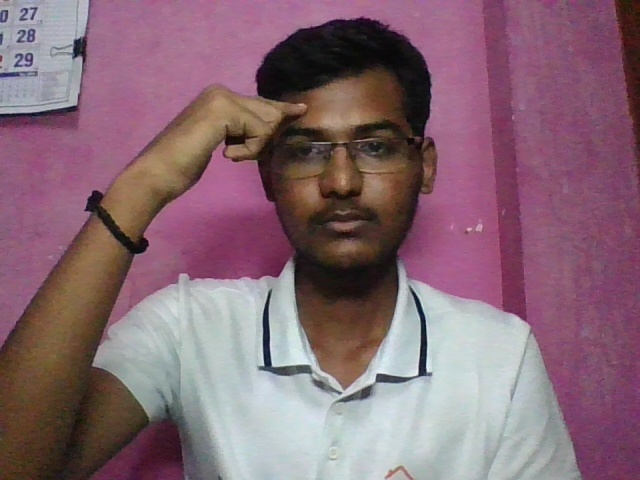Hello: (125, 76, 314, 210)
